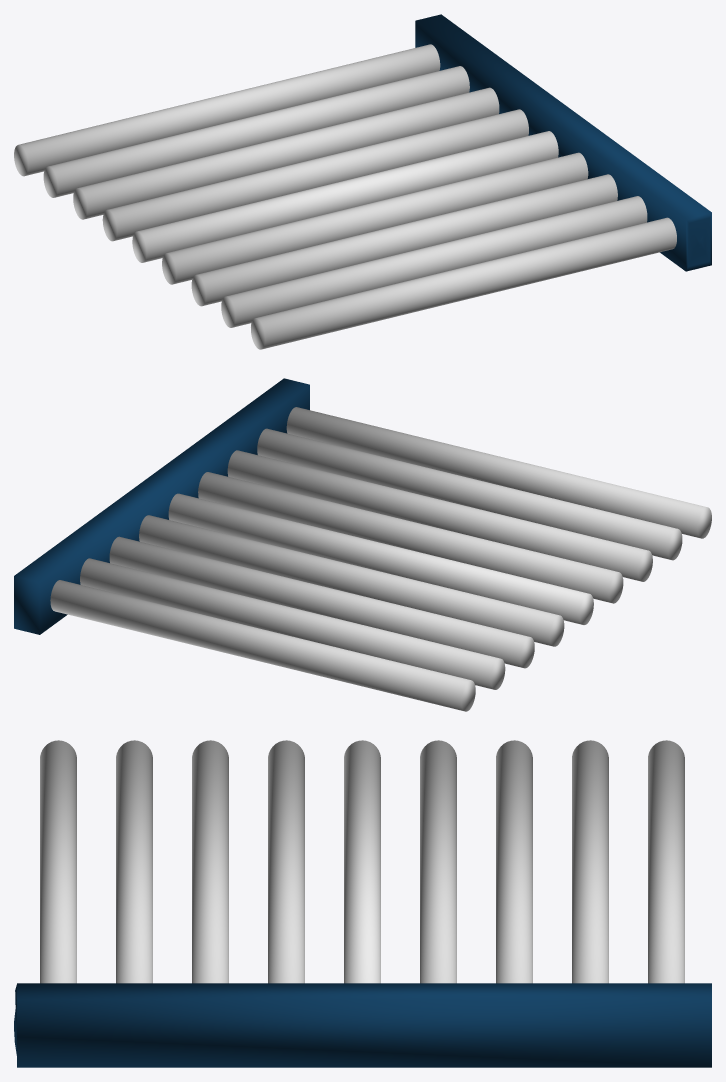
File: cinta_rotada.glb
The picture shows the model from 3 angles, top to bottom: view 1: azimuth 30°, elevation 25°; view 2: azimuth 150°, elevation 25°; view 3: azimuth 270°, elevation 25°; orthographic projection. The views are drawn at different scales.
Parts seen in each view (by area): view 1: Belt, Cylinder 12, Cylinder 18, Cylinder 19, Cylinder 14, Cylinder 15, Cylinder 20, Cylinder 1, Cylinder 13, Cylinder 17; view 2: Belt, Cylinder 20, Cylinder 13, Cylinder 14, Cylinder 18, Cylinder 17, Cylinder 1, Cylinder 12, Cylinder 15, Cylinder 19; view 3: Belt, Cylinder 20, Cylinder 1, Cylinder 15, Cylinder 17, Cylinder 18, Cylinder 19, Cylinder 13, Cylinder 14, Cylinder 12.
Boxes of the visible parts, left/top/right/bottom form: Belt: left=415, top=14, right=711, bottom=271; Cylinder 12: left=251, top=217, right=676, bottom=349; Cylinder 18: left=73, top=87, right=499, bottom=219; Cylinder 19: left=43, top=66, right=469, bottom=197; Cylinder 14: left=191, top=174, right=617, bottom=306; Cylinder 15: left=162, top=152, right=588, bottom=284; Cylinder 20: left=14, top=44, right=440, bottom=176; Cylinder 1: left=132, top=131, right=558, bottom=262; Cylinder 13: left=221, top=196, right=647, bottom=327; Cylinder 17: left=102, top=109, right=528, bottom=241; Belt: left=14, top=378, right=309, bottom=634; Cylinder 20: left=50, top=580, right=475, bottom=711; Cylinder 13: left=257, top=428, right=682, bottom=560; Cylinder 14: left=227, top=450, right=652, bottom=581; Cylinder 18: left=109, top=536, right=534, bottom=668; Cylinder 17: left=139, top=515, right=564, bottom=646; Cylinder 1: left=168, top=493, right=593, bottom=624; Cylinder 12: left=286, top=407, right=711, bottom=538; Cylinder 15: left=198, top=472, right=623, bottom=603; Cylinder 19: left=80, top=558, right=505, bottom=689; Belt: left=14, top=983, right=711, bottom=1067; Cylinder 20: left=648, top=740, right=684, bottom=983; Cylinder 1: left=344, top=740, right=380, bottom=983; Cylinder 15: left=268, top=740, right=304, bottom=983; Cylinder 17: left=420, top=740, right=456, bottom=983; Cylinder 18: left=496, top=740, right=532, bottom=983; Cylinder 19: left=572, top=740, right=608, bottom=983; Cylinder 13: left=116, top=740, right=152, bottom=983; Cylinder 14: left=192, top=740, right=228, bottom=983; Cylinder 12: left=40, top=740, right=76, bottom=983.
Size of the model in its own units: 7.45 by 0.8589 by 8.01.
